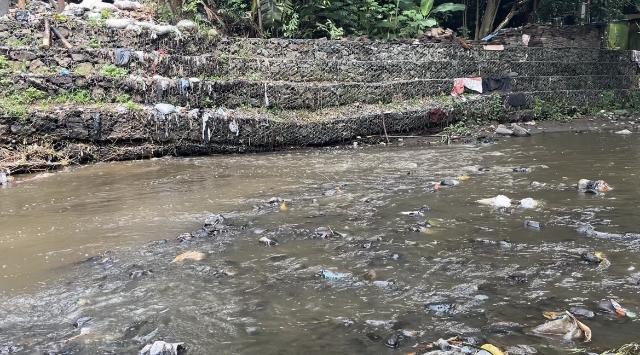Sampah Anorganik: (529, 314, 592, 346), (469, 195, 512, 211), (580, 176, 614, 195), (606, 297, 630, 318), (314, 266, 344, 280), (391, 209, 427, 219), (520, 197, 539, 211), (456, 175, 468, 180)
Sampah Organik: (409, 336, 496, 355), (410, 220, 446, 236), (165, 248, 208, 260), (278, 202, 290, 211), (334, 187, 344, 195), (435, 184, 438, 189)
